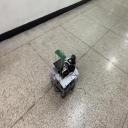cart: (49, 59, 79, 99)
